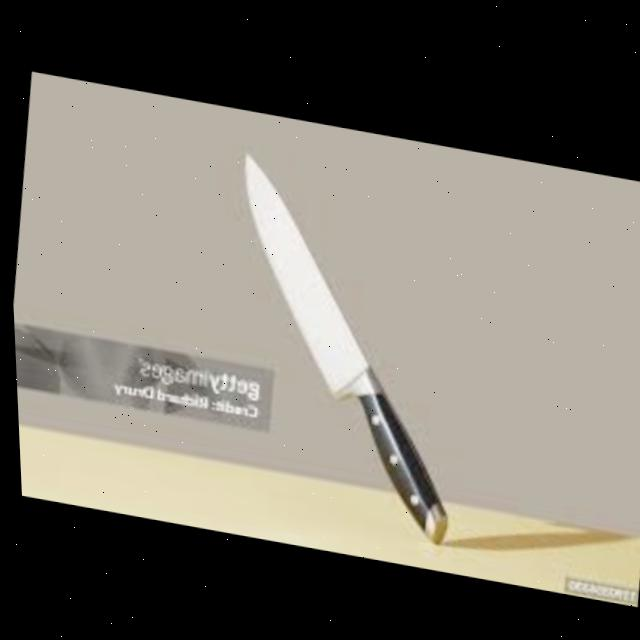knife: (201, 146, 486, 540)
